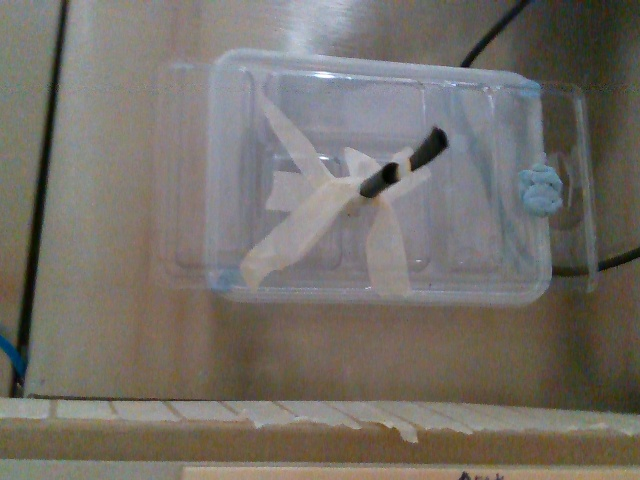test_strip: (395, 127, 448, 182)
